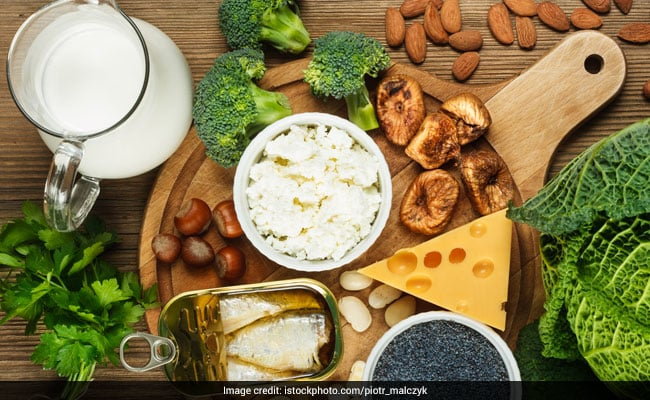chopped lettuce: (540, 158, 649, 379)
glass of milk: (5, 5, 191, 176)
plain rice: (262, 139, 369, 250)
